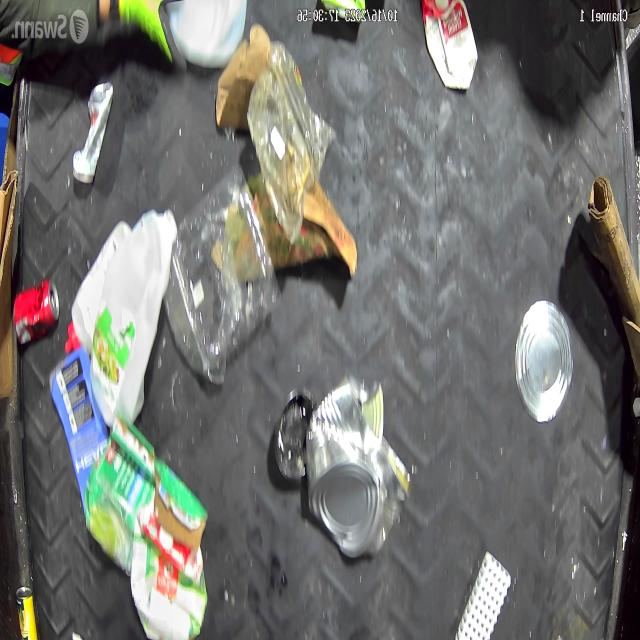can: (306, 378, 384, 570), (66, 70, 120, 190), (7, 270, 62, 347)
milk_jug: (88, 206, 178, 432)
